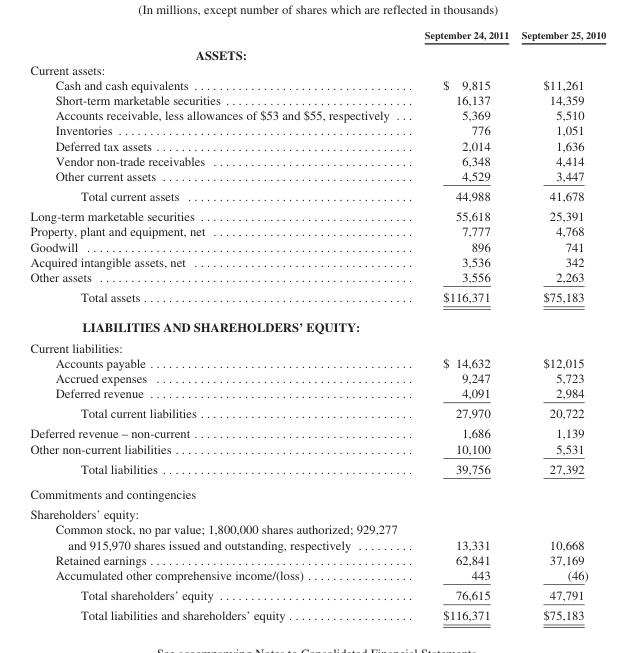table: (29, 29, 605, 622)
table column: (29, 29, 410, 622), (410, 29, 514, 622), (514, 29, 605, 622)
table column header: (29, 29, 605, 43)
table projected row header: (29, 311, 605, 337), (29, 481, 605, 503), (29, 43, 605, 61), (29, 503, 605, 521), (29, 337, 605, 354), (29, 61, 605, 77)
table row: (29, 521, 605, 551), (29, 311, 605, 337), (29, 286, 605, 311), (29, 458, 605, 481), (29, 481, 605, 503), (29, 402, 605, 423), (29, 185, 605, 205), (29, 584, 605, 604), (29, 43, 605, 61), (29, 167, 605, 185), (29, 205, 605, 223), (29, 268, 605, 286), (29, 440, 605, 458), (29, 503, 605, 521), (29, 566, 605, 584), (29, 604, 605, 622), (29, 337, 605, 354), (29, 385, 605, 402), (29, 423, 605, 440), (29, 61, 605, 77), (29, 354, 605, 370), (29, 77, 605, 92), (29, 92, 605, 107), (29, 107, 605, 122), (29, 122, 605, 137), (29, 137, 605, 152), (29, 152, 605, 167), (29, 223, 605, 238), (29, 238, 605, 253), (29, 253, 605, 268), (29, 370, 605, 385), (29, 551, 605, 566), (29, 29, 605, 43)
